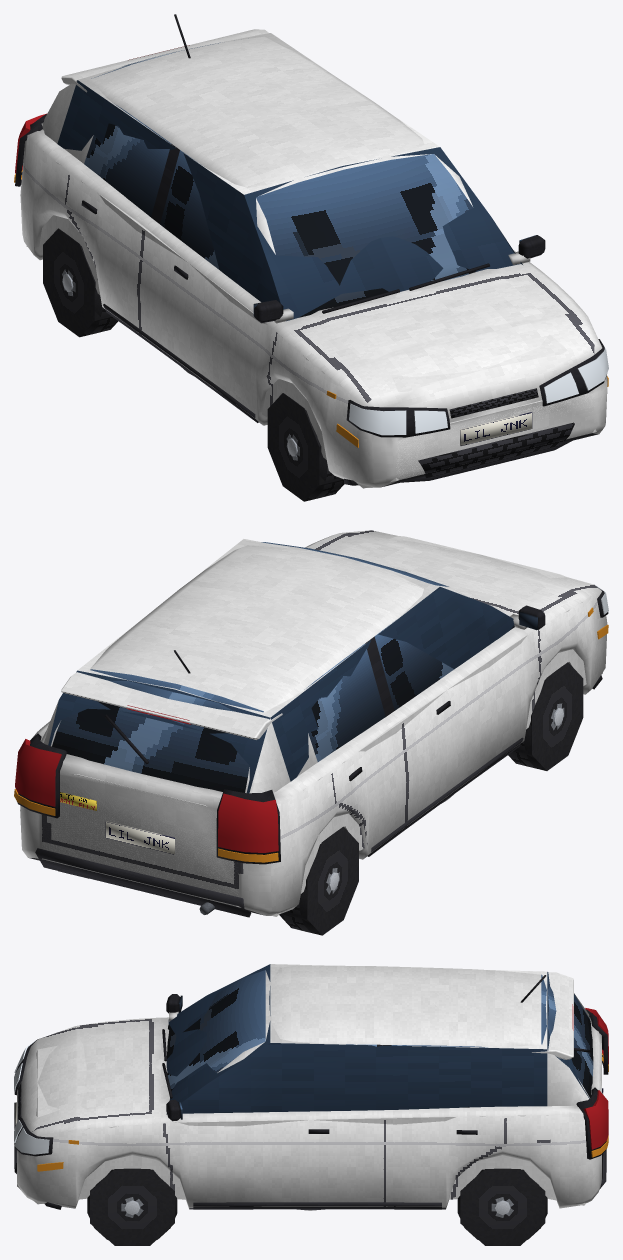
The model's file is p_car_hatch.glb.
The picture shows the model from 3 angles, top to bottom: view 1: azimuth 30°, elevation 25°; view 2: azimuth 150°, elevation 25°; view 3: azimuth 270°, elevation 25°; orthographic projection. The views are drawn at different scales.
Visible parts, largest first — view 1: shell, lod1_mesh, lamps, wheel_fr, wheel_rr; view 2: shell, lod1_mesh, tails, inds, wheel_rr, wheel_fr; view 3: shell, lod1_mesh, tails, lamps, wheel_rl, wheel_fl, inds.
Part boxes in pixels (left/top/right/bottom): shell: left=15, top=14, right=607, bottom=487; lod1_mesh: left=26, top=33, right=602, bottom=501; lamps: left=349, top=347, right=608, bottom=435; wheel_fr: left=286, top=397, right=342, bottom=499; wheel_rr: left=62, top=232, right=117, bottom=334; shell: left=17, top=530, right=608, bottom=917; lod1_mesh: left=42, top=536, right=602, bottom=935; tails: left=15, top=705, right=278, bottom=852; inds: left=14, top=607, right=608, bottom=862; wheel_rr: left=283, top=830, right=339, bottom=932; wheel_fr: left=509, top=666, right=564, bottom=768; shell: left=14, top=965, right=608, bottom=1209; lod1_mesh: left=17, top=964, right=601, bottom=1245; tails: left=572, top=1004, right=608, bottom=1149; lamps: left=14, top=1040, right=49, bottom=1154; wheel_rl: left=457, top=1168, right=547, bottom=1239; wheel_fl: left=87, top=1168, right=177, bottom=1239; inds: left=37, top=1053, right=608, bottom=1171.
Size of the model in its own units: 1.85 by 1.64 by 4.02.
6 materials, 3 textured.
